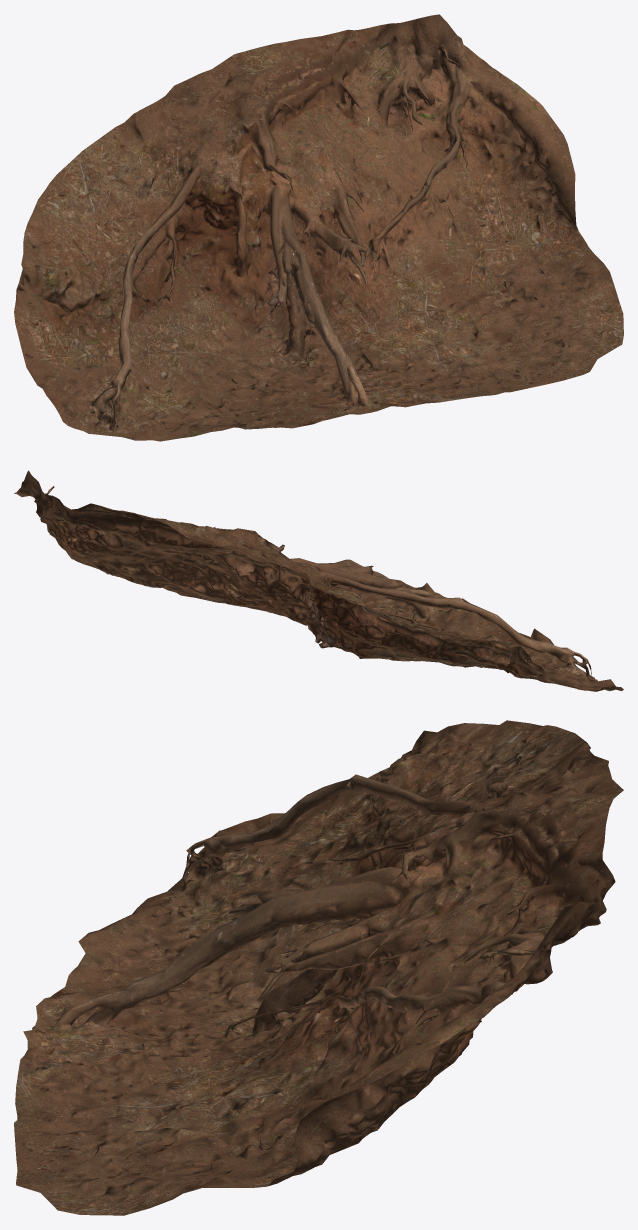
Rendered from root_cluster_01.gltf.
3 renders of one model, top to bottom at view 1: azimuth 30°, elevation 25°; view 2: azimuth 150°, elevation 25°; view 3: azimuth 270°, elevation 25°, orthographic. The views are drawn at different scales.
Visible parts, largest first — view 1: root_cluster_01; view 2: root_cluster_01; view 3: root_cluster_01.
Part boxes in pixels (x1,y1,x2,y2): root_cluster_01: [14, 14, 623, 441]; root_cluster_01: [14, 470, 623, 691]; root_cluster_01: [14, 720, 623, 1215].
Bounding box in the file's own units: 4.12 × 1.51 × 2.68.
Materials: 1 (1 with a texture image).
